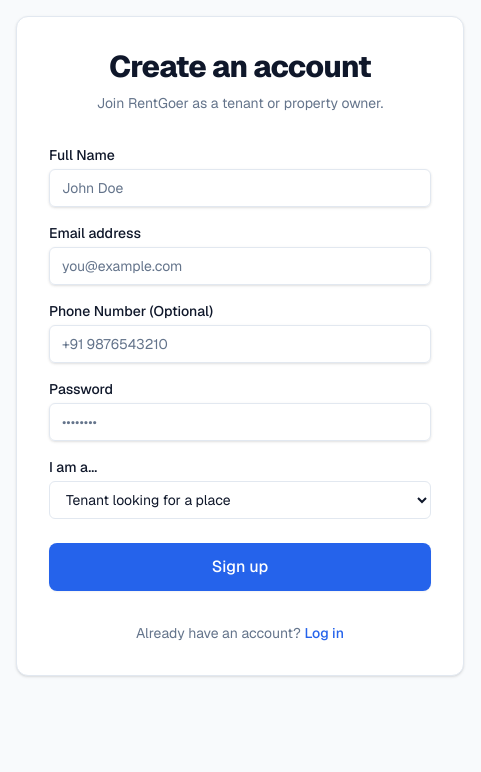
Test: RegisterPage component › displays generic API error when registration fails
The image size is (481, 772).
In the field labelled "Full Name": point(240, 188) [49,169,431,207], type "Test"
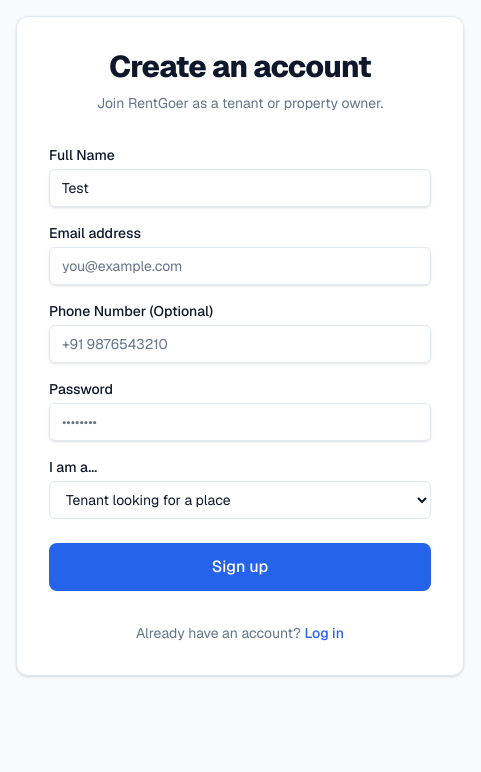
In the field labelled "Email address": point(240, 266) [49,247,431,285], type "test@example.com"
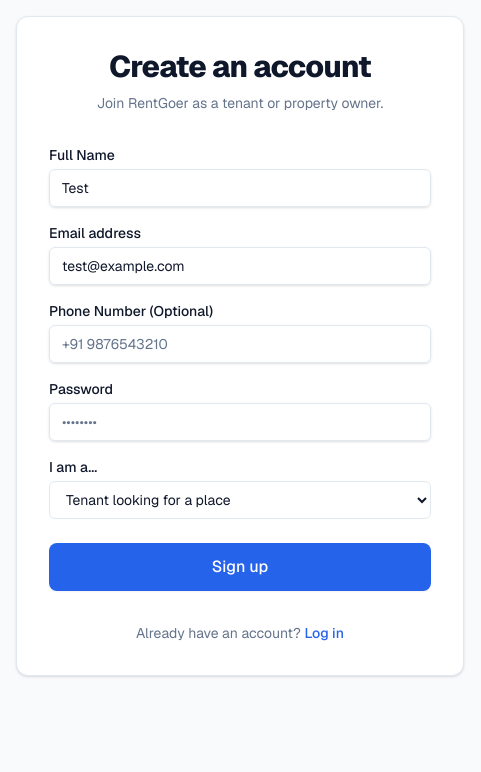
In the password field labelled "Password": point(240, 422) [49,403,431,441], type "ValidPassword123"
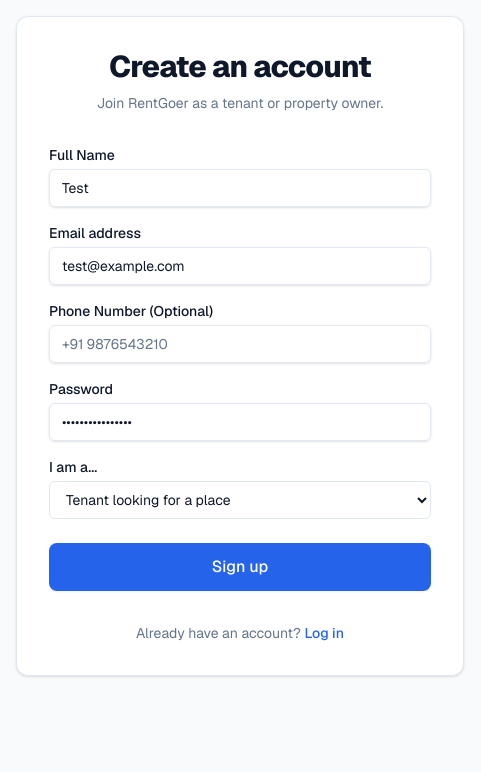
Click the button "Sign up": point(240, 567) [49,543,431,591]
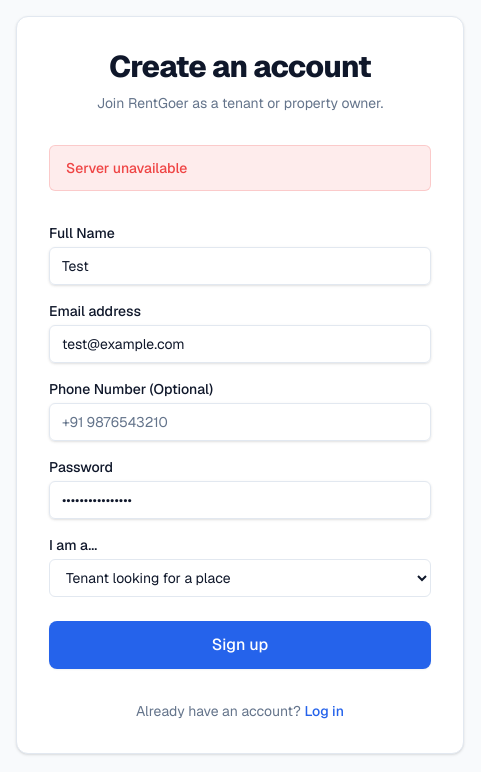
Expected: the message reads "Server unavailable", [66,159,187,177]
